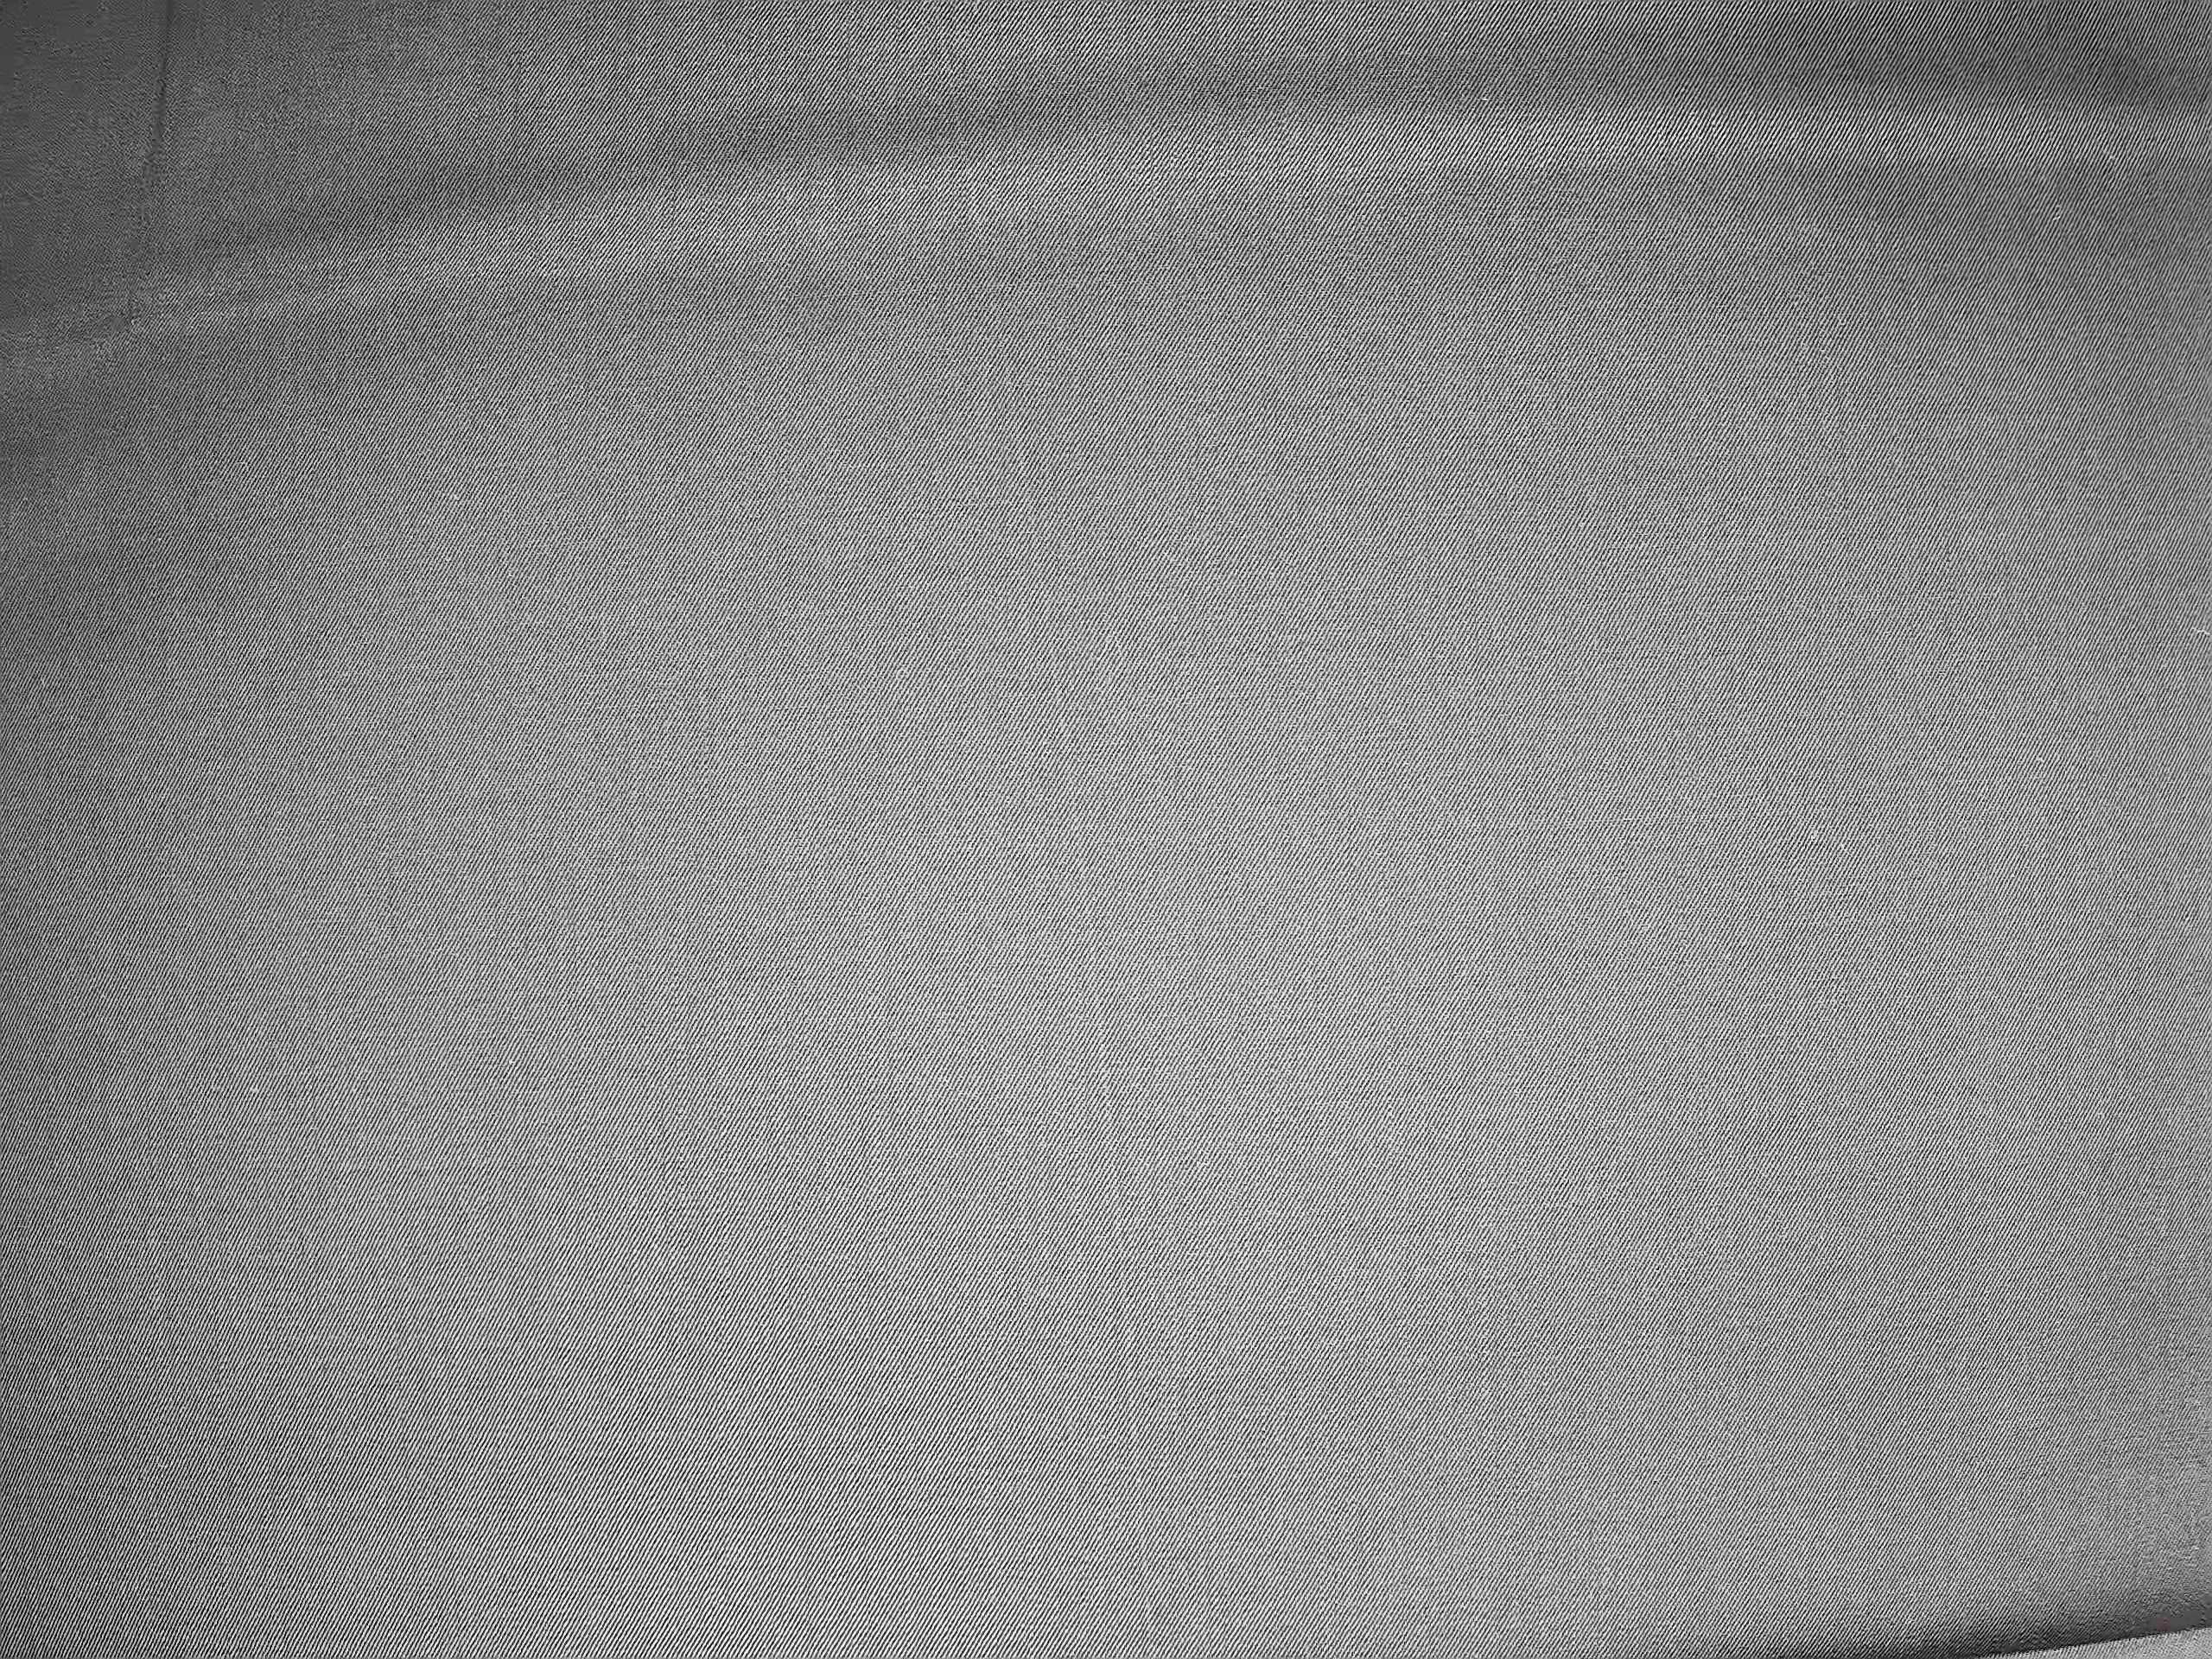others: (916, 17, 1188, 1633)
